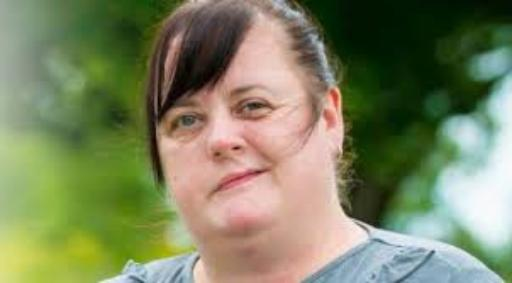left_eye: (237, 100, 273, 115)
left_lip_corner: (256, 166, 276, 178)
right_eye: (167, 114, 203, 130)
right_lip_corner: (206, 183, 228, 199)
